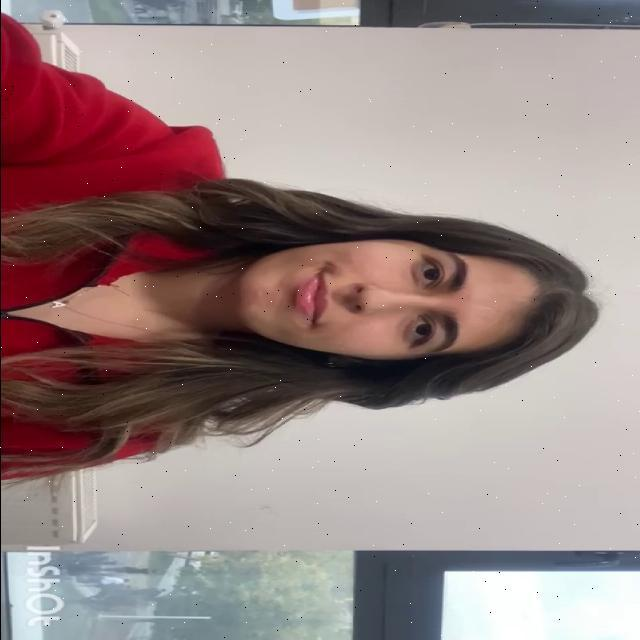happy: (231, 234, 533, 368)
